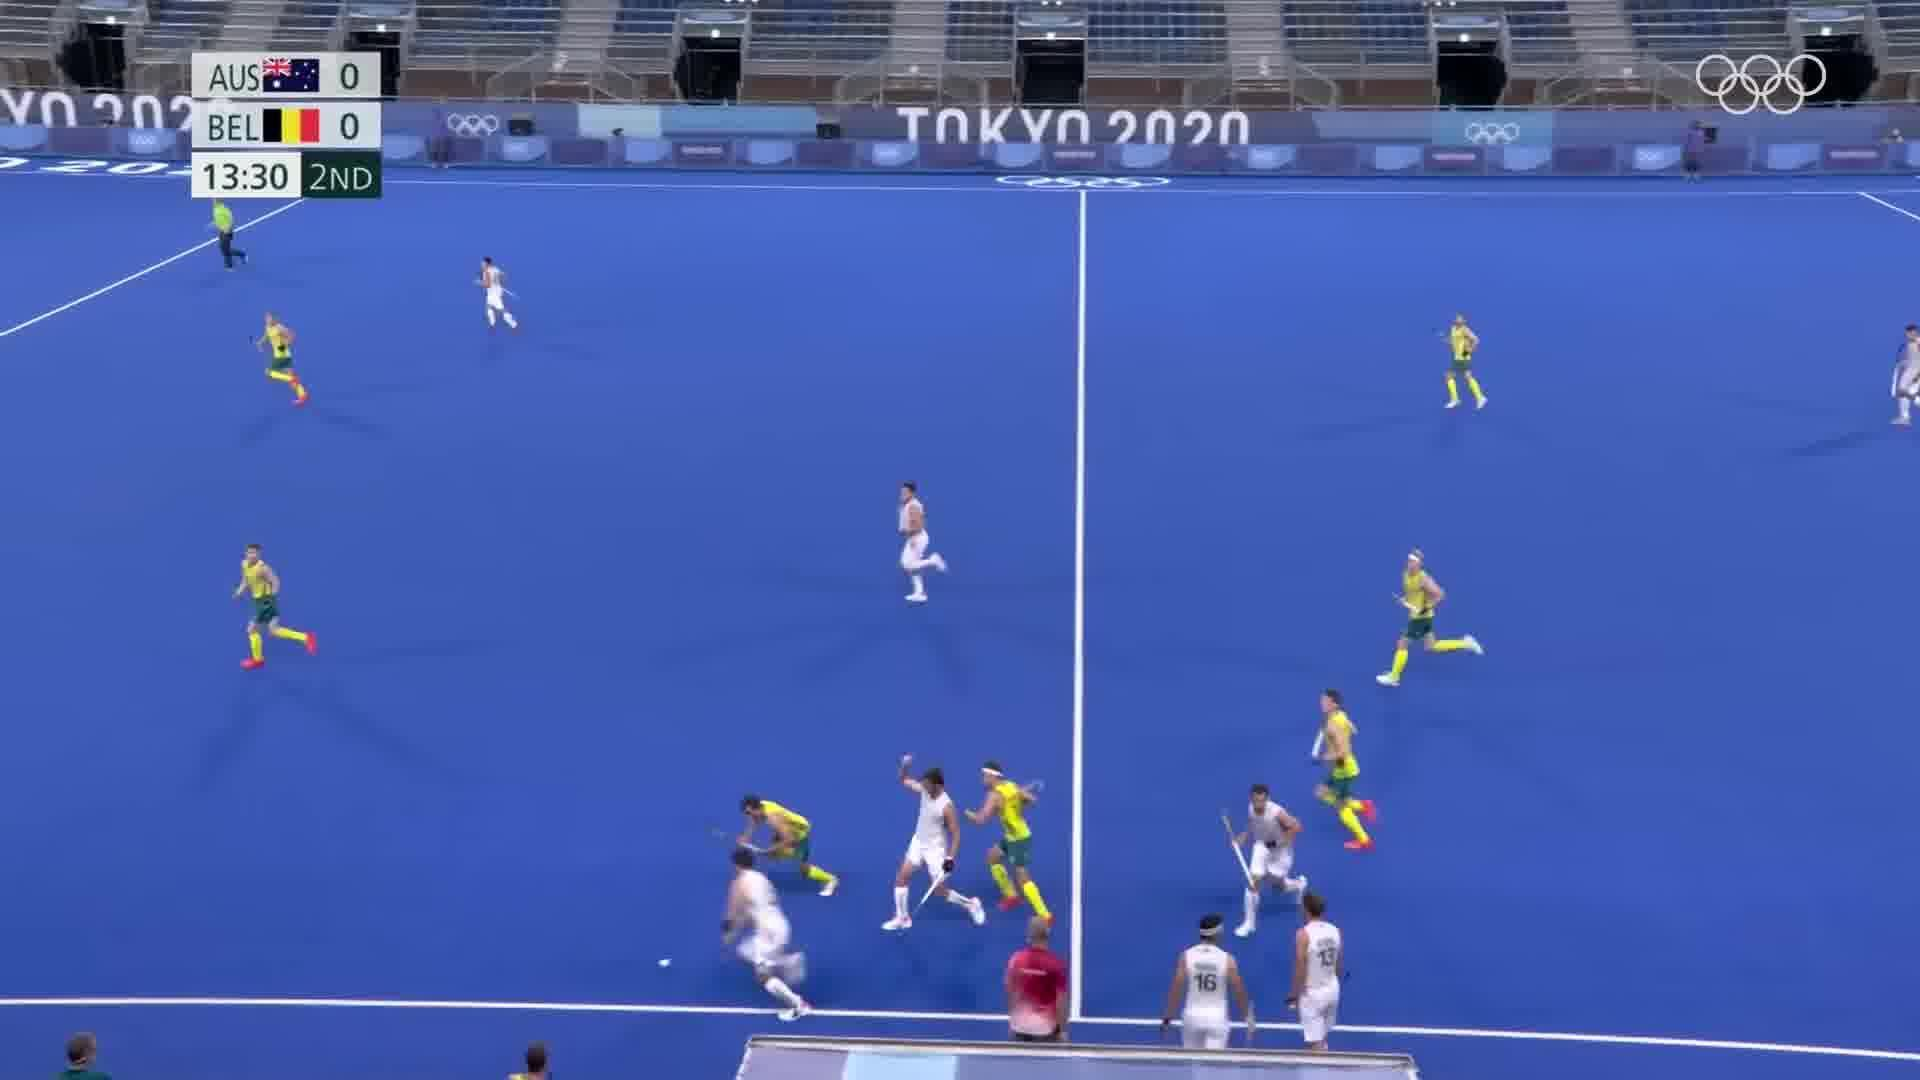ball: (651, 944, 684, 977)
